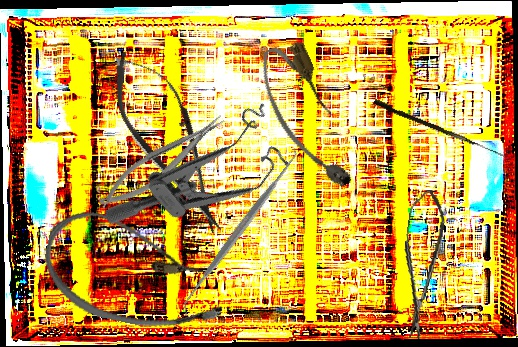Cannula: (35, 204, 236, 342), (251, 36, 361, 200)
Hook Surgical: (372, 98, 508, 158)
Micro Scissor: (94, 37, 246, 247), (392, 187, 449, 341)
Needle Holder: (91, 108, 234, 217)
Spatula Surgical: (170, 144, 309, 318)
Speculum: (100, 87, 306, 279)
